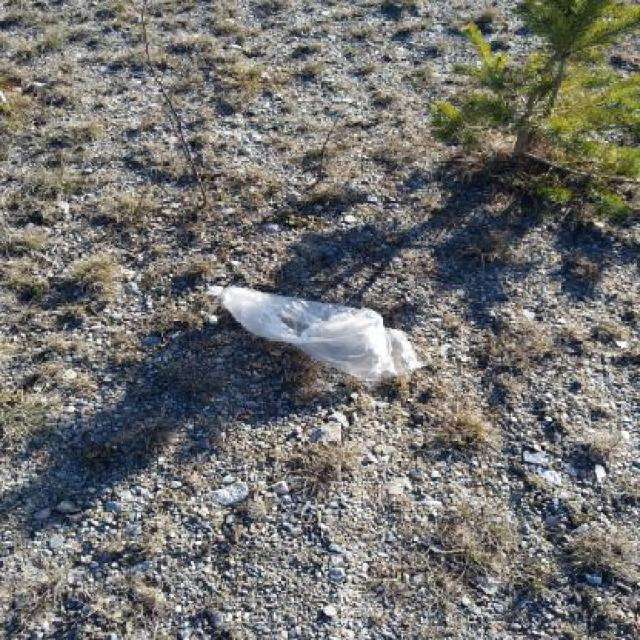plastic: (218, 285, 428, 381)
